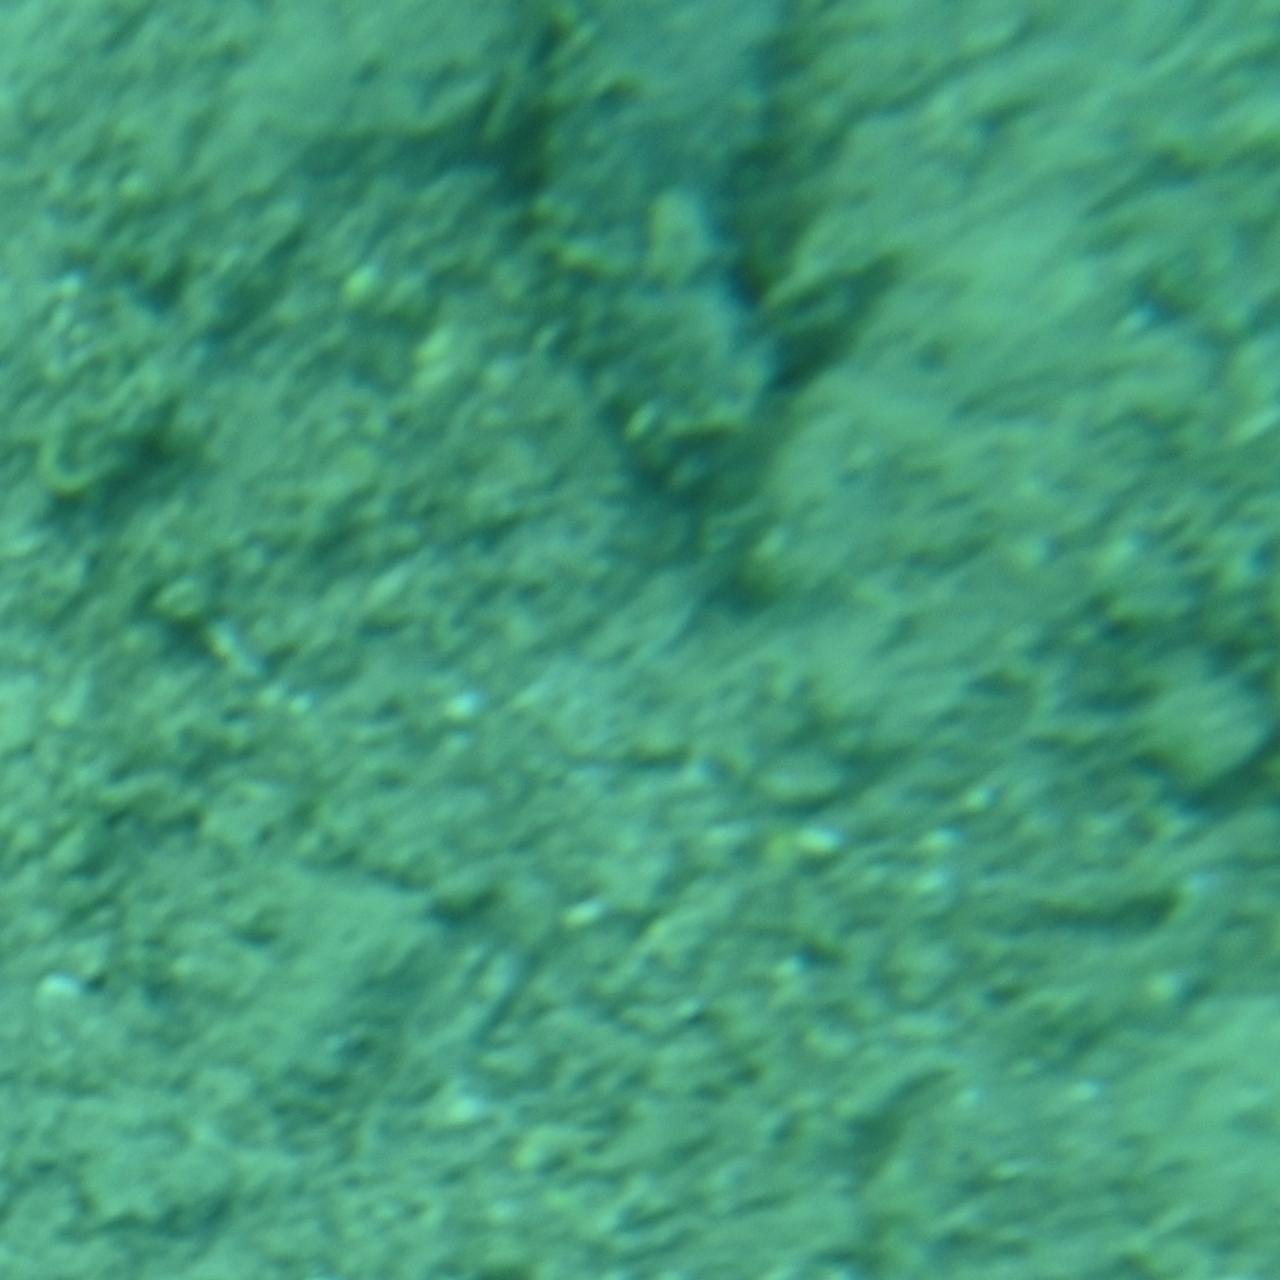Holothuria tubulosa: (437, 0, 843, 546)
